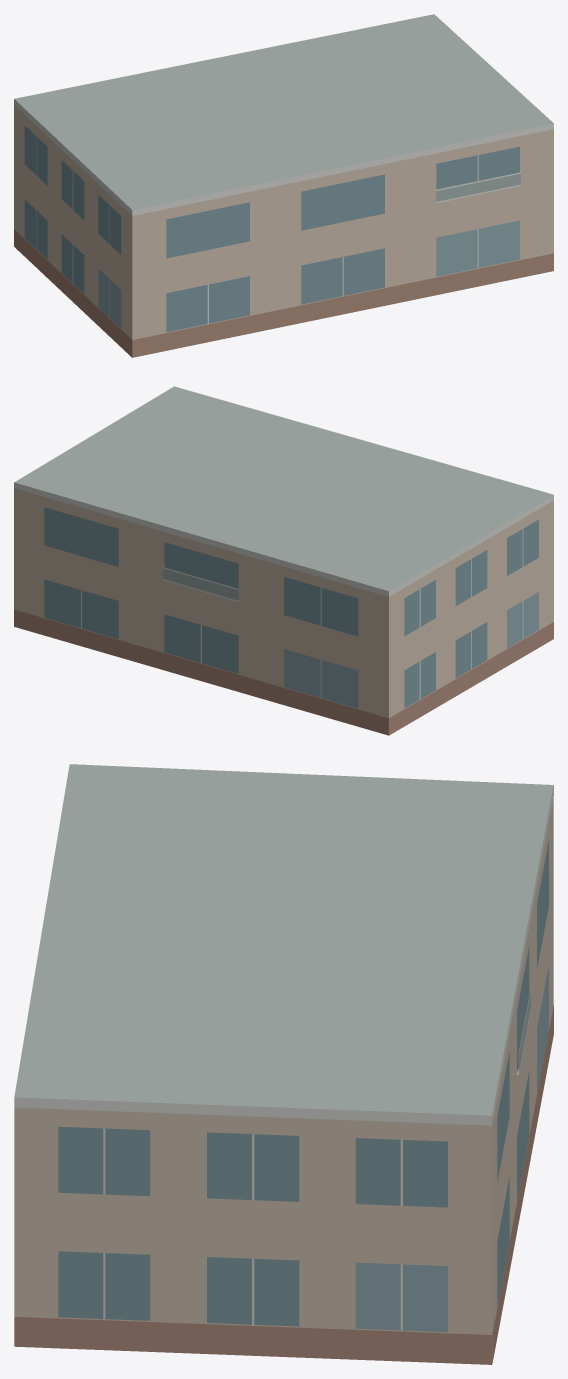
File: survey-upis-32755839.glb
3 views of the same model, one above another, from view 1: azimuth 30°, elevation 25°; view 2: azimuth 150°, elevation 25°; view 3: azimuth 270°, elevation 25° (orthographic). The views are drawn at different scales.
Parts seen in each view (by area): view 1: survey-upis-32755839.tmp; view 2: survey-upis-32755839.tmp; view 3: survey-upis-32755839.tmp.
Boxes of the visible parts, <box> form: survey-upis-32755839.tmp: <box>14,14,553,357</box>; survey-upis-32755839.tmp: <box>14,386,553,735</box>; survey-upis-32755839.tmp: <box>14,764,553,1364</box>.
Bounding box in the file's own units: 18.47 × 6.1 × 11.98.
